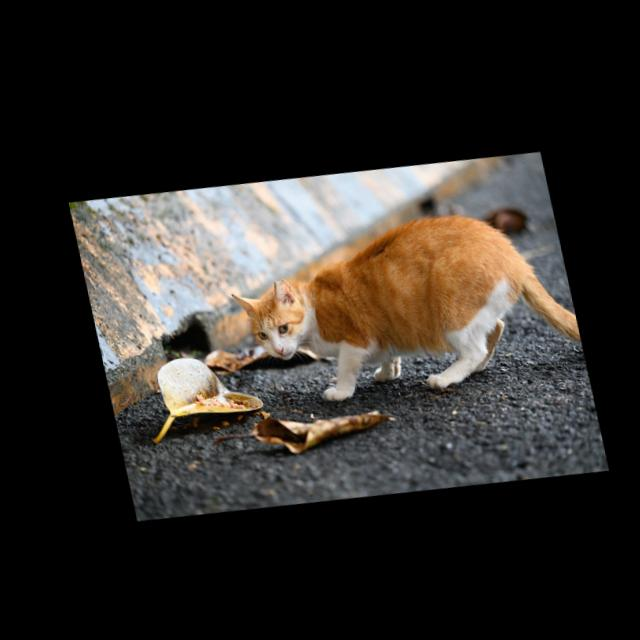animals: (214, 184, 587, 421)
